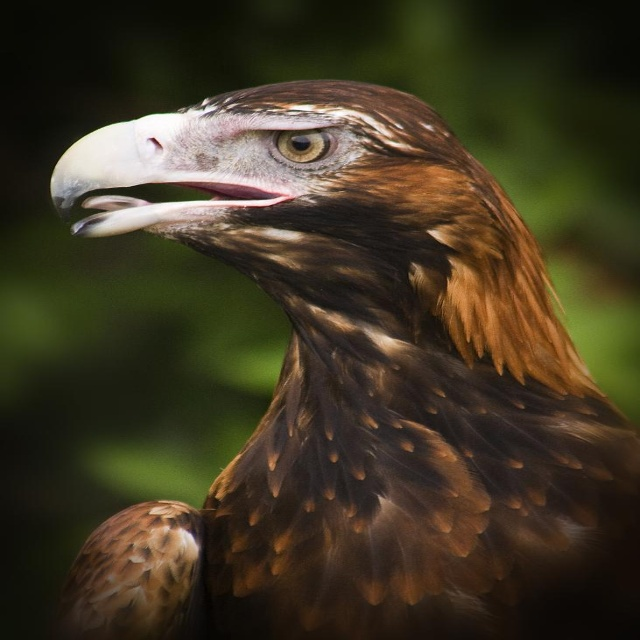Eagle: (49, 78, 639, 640)
